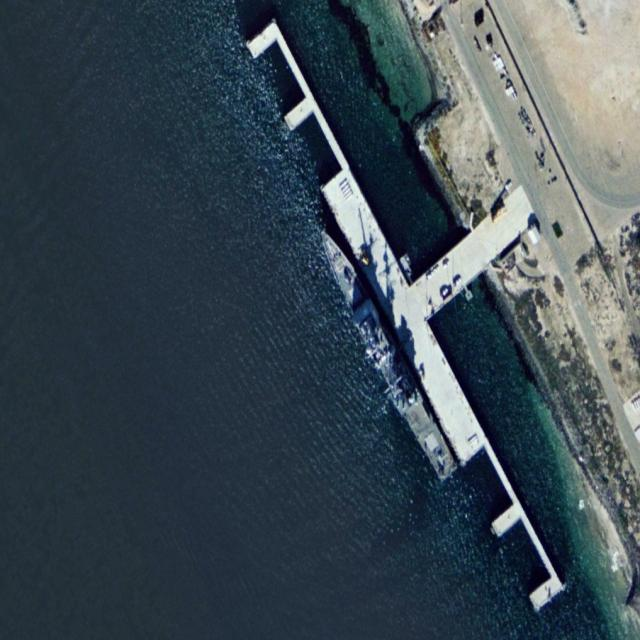Cruiser: (310, 219, 460, 488)
